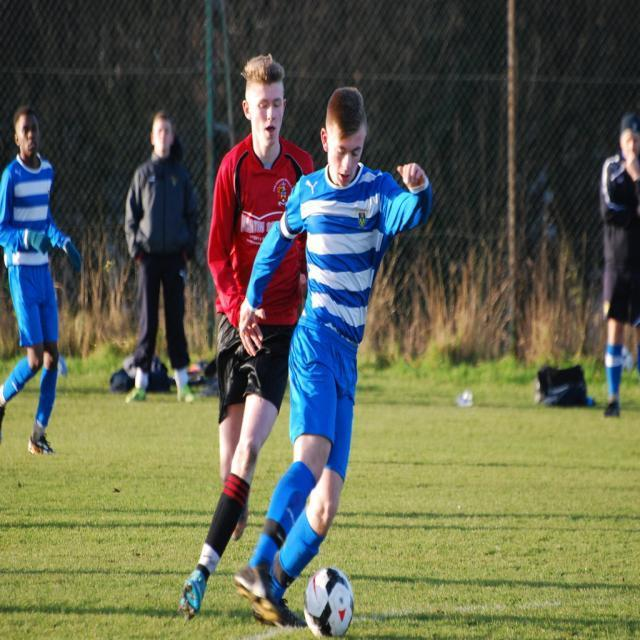football: (294, 565, 365, 637)
